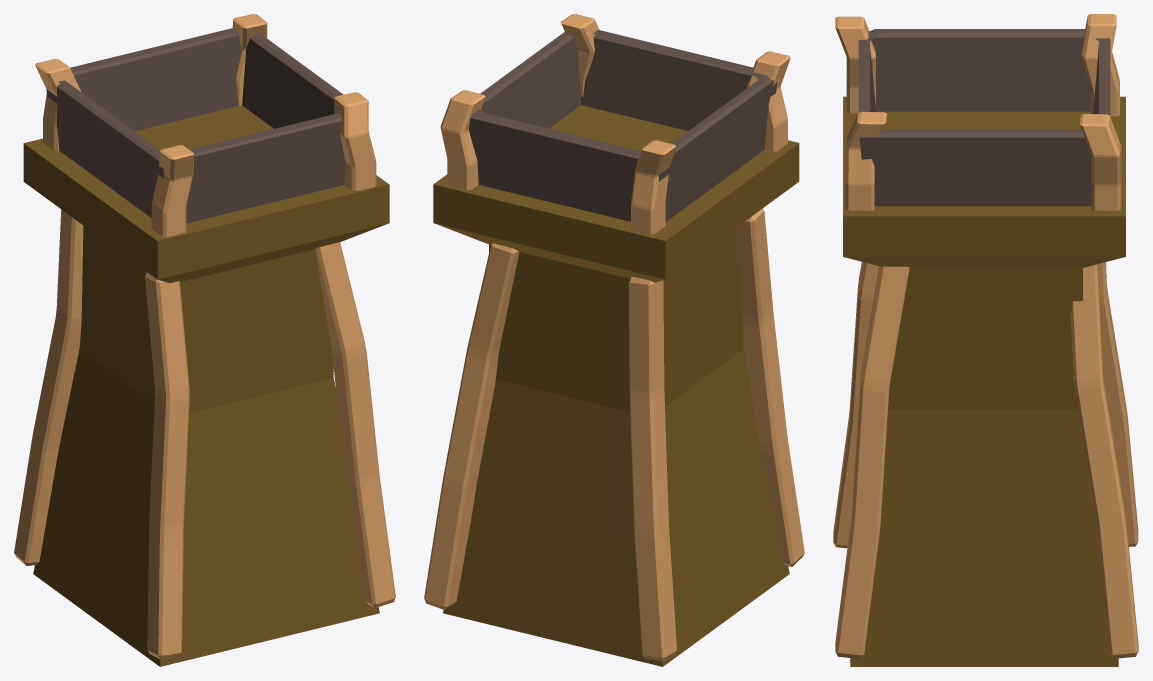
File: tower.glb
3 renders of one model, left to right at view 1: azimuth 30°, elevation 25°; view 2: azimuth 150°, elevation 25°; view 3: azimuth 270°, elevation 25°, orthographic. The views are drawn at different scales.
Visible parts, largest first — view 1: Cube.004, Cube, Cube.006, Cube.001, Cube.002, Cube.010, Cube.009, Cube.008, Cube.007; view 2: Cube.004, Cube, Cube.002, Cube.003, Cube.006, Cube.008, Cube.007, Cube.010, Cube.009; view 3: Cube.004, Cube, Cube.001, Cube.003, Cube.002, Cube.006, Cube.007, Cube.009, Cube.008, Cube.010.
Boxes of the visible parts, x1=… form: Cube.004: x1=23, y1=105, x2=389, y2=666; Cube: x1=46, y1=28, x2=345, y2=223; Cube.006: x1=145, y1=272, x2=189, y2=659; Cube.001: x1=315, y1=242, x2=395, y2=607; Cube.002: x1=14, y1=209, x2=83, y2=565; Cube.010: x1=151, y1=145, x2=194, y2=237; Cube.009: x1=334, y1=92, x2=376, y2=191; Cube.008: x1=35, y1=59, x2=81, y2=150; Cube.007: x1=232, y1=14, x2=267, y2=105; Cube.004: x1=433, y1=105, x2=799, y2=666; Cube: x1=469, y1=30, x2=777, y2=221; Cube.002: x1=628, y1=277, x2=676, y2=661; Cube.003: x1=424, y1=243, x2=519, y2=609; Cube.006: x1=734, y1=208, x2=804, y2=566; Cube.008: x1=631, y1=140, x2=676, y2=234; Cube.007: x1=440, y1=90, x2=485, y2=190; Cube.010: x1=746, y1=51, x2=790, y2=151; Cube.009: x1=560, y1=14, x2=599, y2=96; Cube.004: x1=843, y1=96, x2=1125, y2=666; Cube: x1=858, y1=29, x2=1110, y2=206; Cube.001: x1=835, y1=266, x2=909, y2=659; Cube.003: x1=1070, y1=264, x2=1138, y2=658; Cube.002: x1=1097, y1=262, x2=1138, y2=546; Cube.006: x1=833, y1=262, x2=878, y2=548; Cube.007: x1=1080, y1=114, x2=1121, y2=210; Cube.009: x1=845, y1=111, x2=886, y2=210; Cube.008: x1=1082, y1=14, x2=1119, y2=116; Cube.010: x1=835, y1=16, x2=875, y2=113.
Size of the model in its own units: 2.03 by 4.1 by 2.1.
